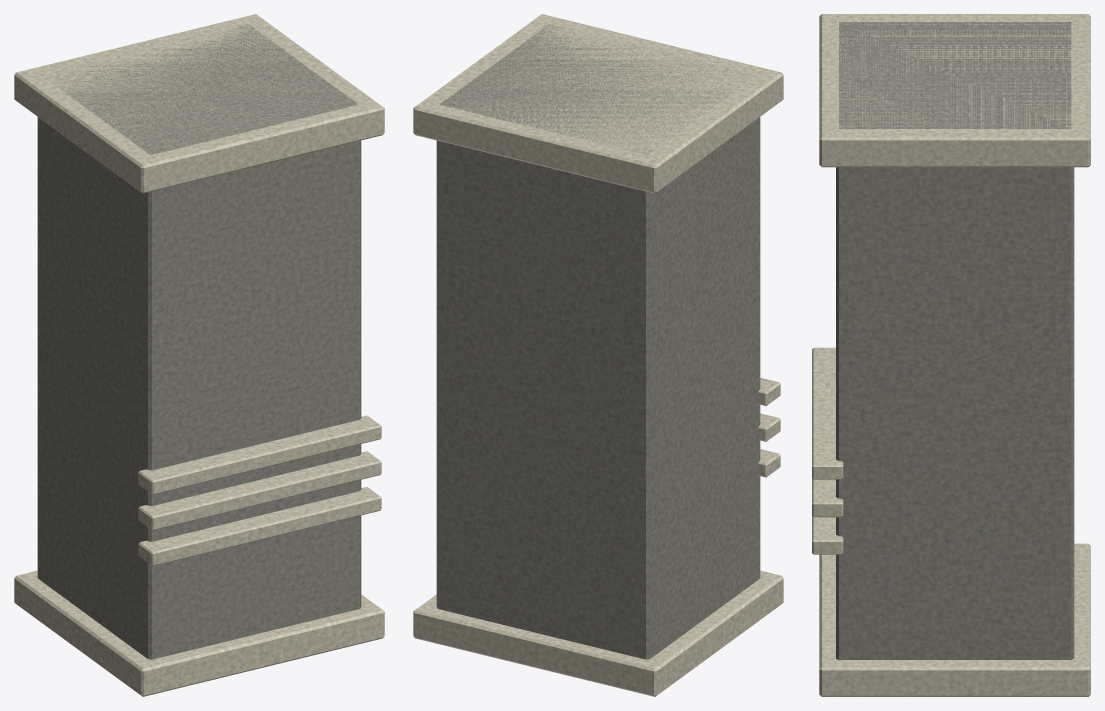
The model's file is TUNN31RC_lod0.glb.
The picture shows the model from 3 angles, left to right: view 1: azimuth 30°, elevation 25°; view 2: azimuth 150°, elevation 25°; view 3: azimuth 270°, elevation 25°; orthographic projection. The views are drawn at different scales.
Visible parts, largest first — view 1: TUNN31RC_LOD0; view 2: TUNN31RC_LOD0; view 3: TUNN31RC_LOD0.
Boxes of the visible parts, x1,y1,x2,y2 form: TUNN31RC_LOD0: [14, 14, 384, 696]; TUNN31RC_LOD0: [413, 14, 783, 696]; TUNN31RC_LOD0: [812, 14, 1090, 696].
Size of the model in its own units: 1.43 by 3 by 1.34.
Materials: 3 (3 with a texture image).
